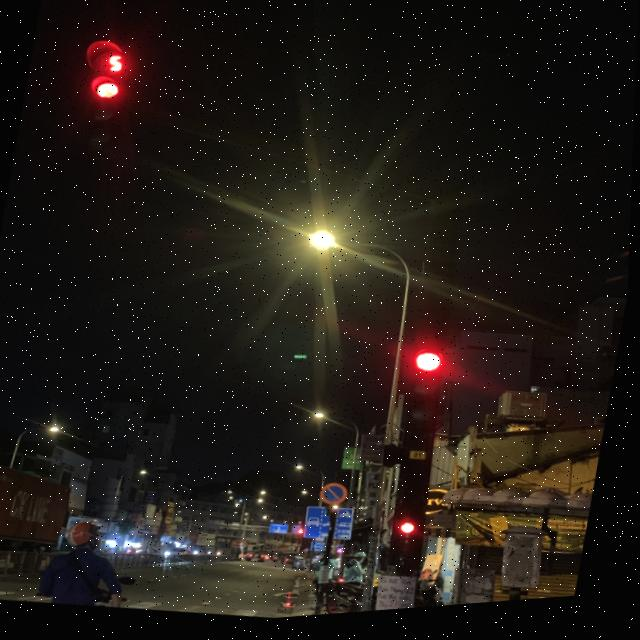Red: (72, 72, 140, 169), (401, 346, 459, 439), (387, 514, 436, 583)
